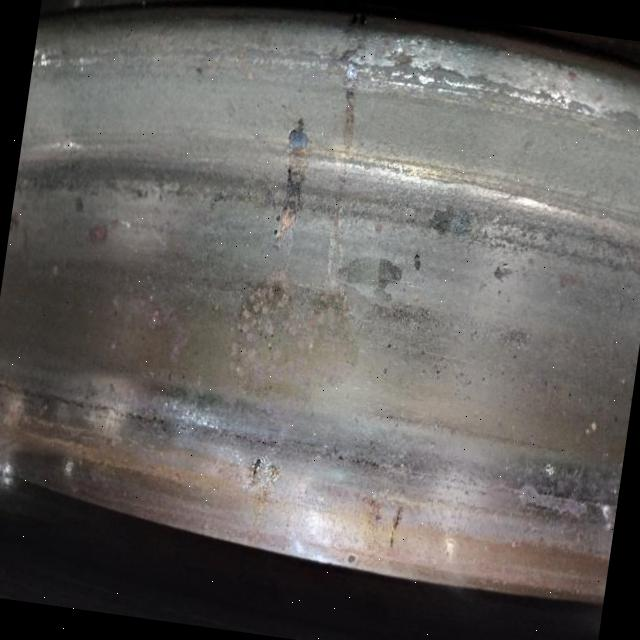Blue hole: (546, 465, 557, 477), (349, 555, 357, 565)
Peeling: (594, 504, 616, 533)
Rollerpile: (266, 109, 320, 253), (324, 17, 372, 145), (242, 452, 285, 536), (511, 485, 590, 520)
flat: (162, 399, 223, 443), (209, 445, 246, 469)
